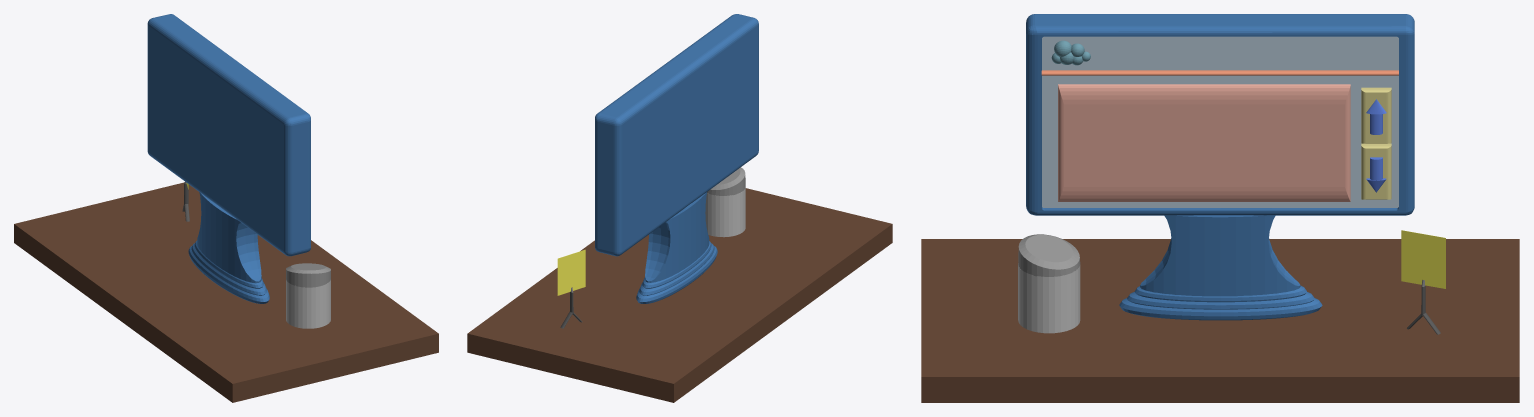
Rendered from re.1fac4e21.glb.
The picture shows the model from 3 angles, left to right: view 1: azimuth 30°, elevation 25°; view 2: azimuth 150°, elevation 25°; view 3: azimuth 270°, elevation 25°; orthographic projection. The views are drawn at different scales.
Parts seen in each view (by area): view 1: Cube, 큐브.008, 실린더.006, 실린더, 실린더.001, Torus, Torus.001, Torus.002; view 2: Cube, 큐브.008, 실린더.006, 실린더, 큐브, Torus, 실린더.001, Torus.001, Torus.002; view 3: Cube, 큐브.001, 큐브.007, 큐브.008, 실린더.006, 실린더, Torus, 큐브, 실린더.001, 실린더.007, Torus.001, 큐브.004 (+2 smaller).
Boxes of the visible parts, left/top/right/bottom form: Cube: left=14, top=182, right=438, bottom=402; 큐브.008: left=147, top=14, right=310, bottom=256; 실린더.006: left=197, top=192, right=261, bottom=283; 실린더: left=286, top=280, right=330, bottom=328; 실린더.001: left=286, top=263, right=330, bottom=287; Torus: left=188, top=246, right=269, bottom=303; Torus.001: left=191, top=243, right=266, bottom=295; Torus.002: left=194, top=240, right=263, bottom=288; Cube: left=467, top=188, right=892, bottom=402; 큐브.008: left=595, top=14, right=758, bottom=256; 실린더.006: left=645, top=192, right=709, bottom=282; 실린더: left=705, top=188, right=745, bottom=237; 큐브: left=557, top=249, right=585, bottom=295; Torus: left=636, top=246, right=717, bottom=303; 실린더.001: left=707, top=167, right=745, bottom=195; Torus.001: left=639, top=243, right=714, bottom=295; Torus.002: left=642, top=241, right=711, bottom=288; Cube: left=921, top=239, right=1519, bottom=402; 큐브.001: left=1058, top=84, right=1350, bottom=201; 큐브.007: left=1042, top=36, right=1398, bottom=207; 큐브.008: left=1026, top=14, right=1414, bottom=215; 실린더.006: left=1140, top=208, right=1300, bottom=296; 실린더: left=1018, top=264, right=1080, bottom=333; Torus: left=1119, top=298, right=1322, bottom=320; 큐브: left=1401, top=230, right=1445, bottom=288; 실린더.001: left=1018, top=234, right=1080, bottom=276; 실린더.007: left=1041, top=70, right=1398, bottom=75; Torus.001: left=1127, top=292, right=1314, bottom=309; 큐브.004: left=1361, top=143, right=1391, bottom=199.
Size of the model in its own units: 15.44 by 16.52 by 28.34.
